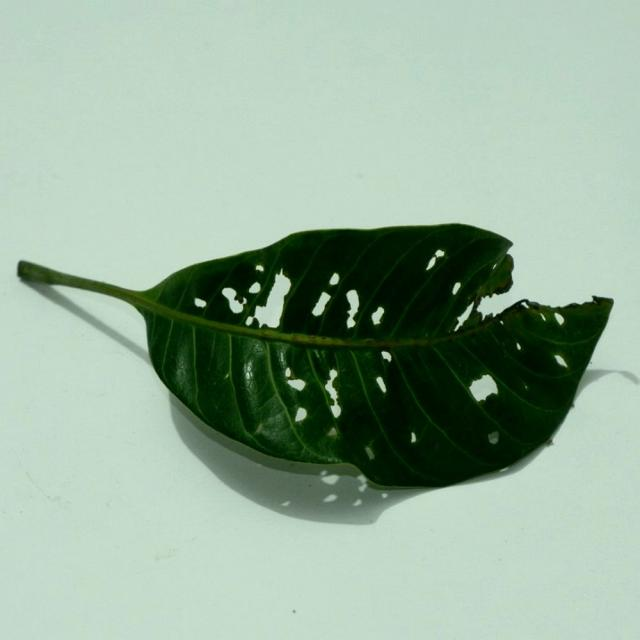Anthracnose: (259, 274, 292, 319), (245, 292, 283, 328), (465, 374, 500, 413), (319, 365, 342, 413), (311, 290, 333, 318), (342, 289, 361, 316), (286, 372, 307, 392), (371, 306, 387, 326), (293, 407, 309, 424), (228, 297, 244, 314), (375, 374, 388, 393), (328, 272, 341, 288), (556, 354, 570, 368), (487, 430, 500, 444), (249, 281, 262, 295), (380, 350, 392, 363), (433, 249, 445, 261), (346, 317, 357, 330), (554, 312, 565, 325), (245, 316, 258, 327), (193, 299, 205, 310), (409, 431, 418, 444), (284, 367, 293, 380)
Mango: (17, 223, 615, 524)
